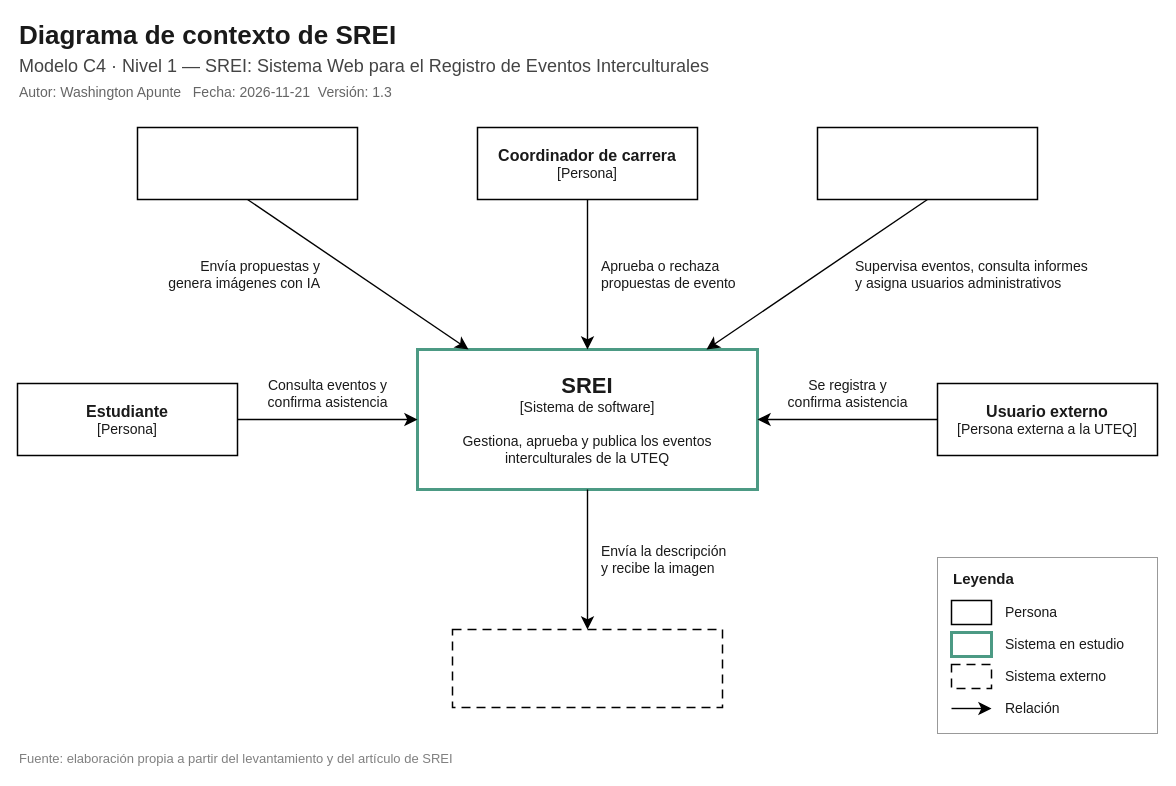
This 1176x786 diagram has some shape labels left out. The shapes that lost their labels are listed below. From the top down, each one's centre as x and y in pixels, then its label:
At [247,163]: "Docente organizador [Persona]".
At [927,163]: "Decano de la facultad [Persona]".
At [587,668]: "Servicio de IA generativa [Sistema externo]".
